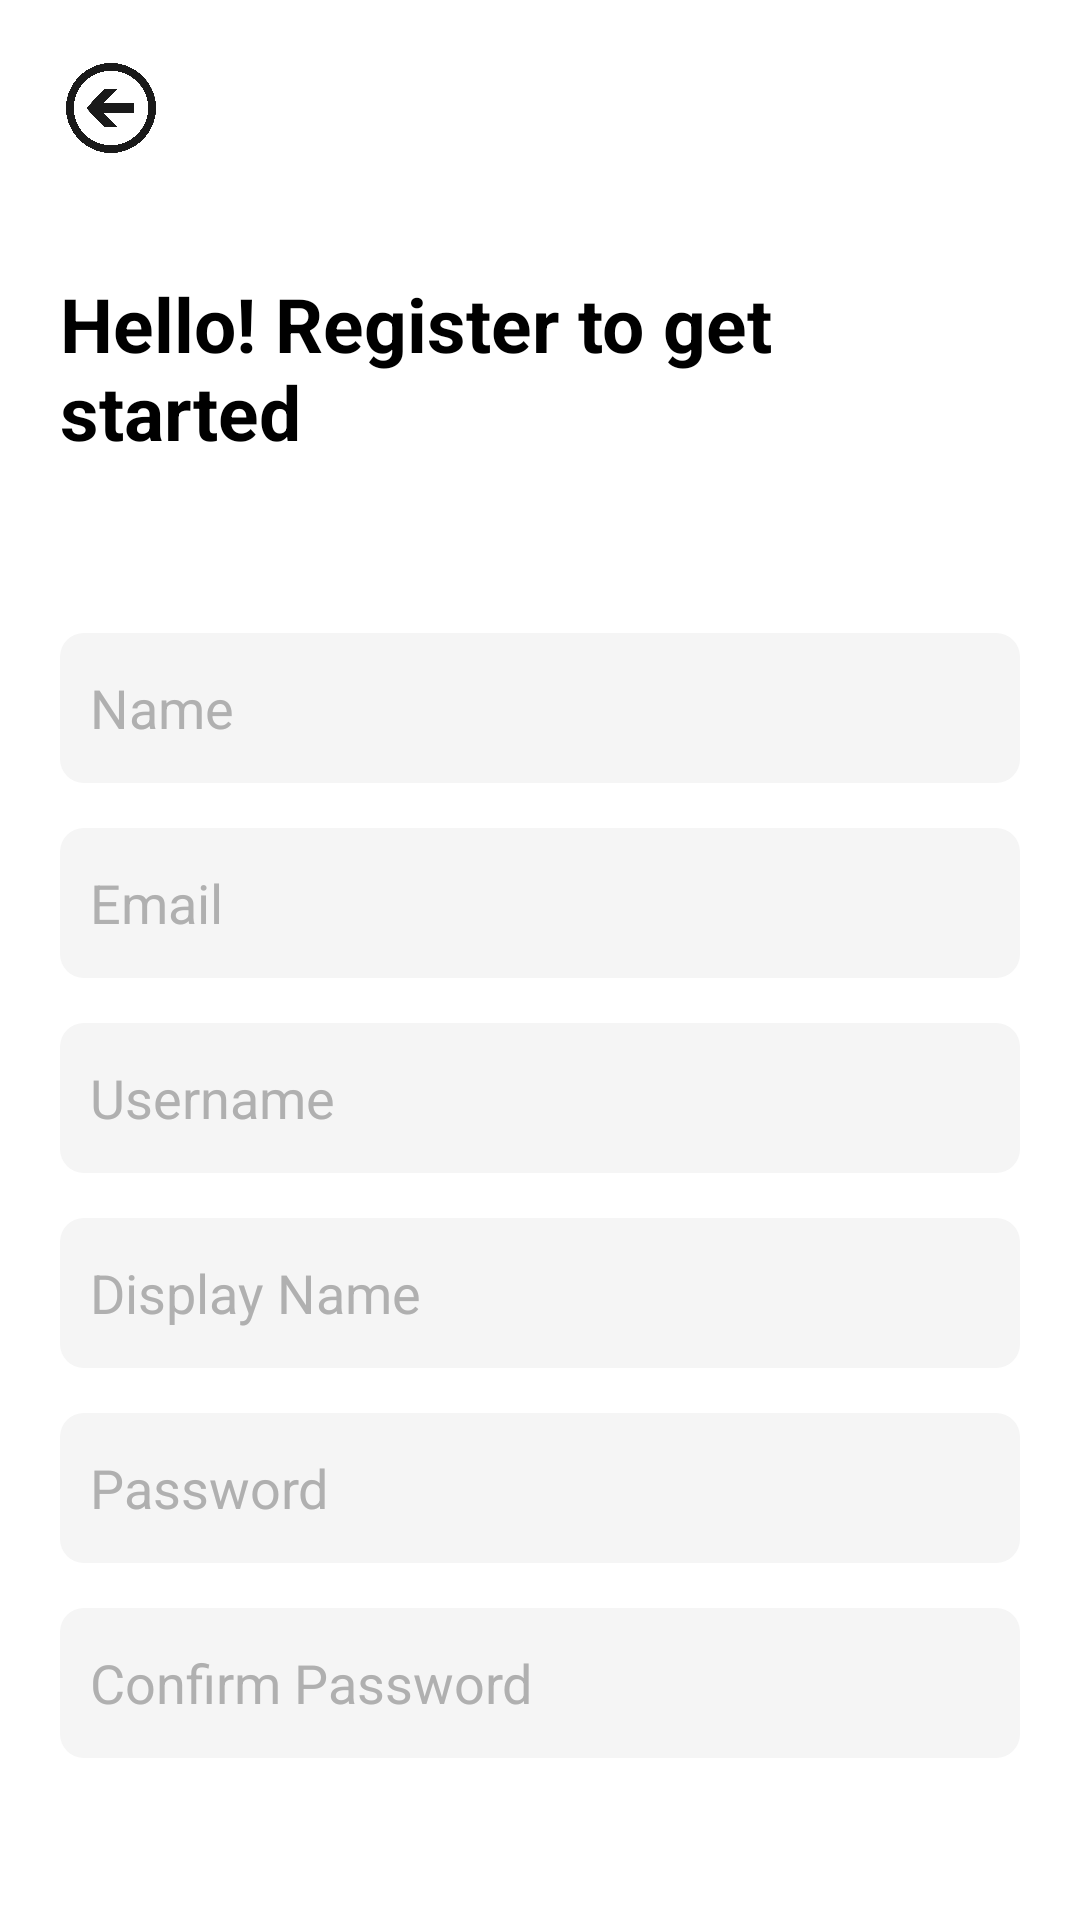

Screen size 1080 x 1920. Icon name, then its box in pixels as {"x1": x1, "y1": y1, "x2": x2, "y2": y2}:
back: {"x1": 66, "y1": 63, "x2": 156, "y2": 153}
